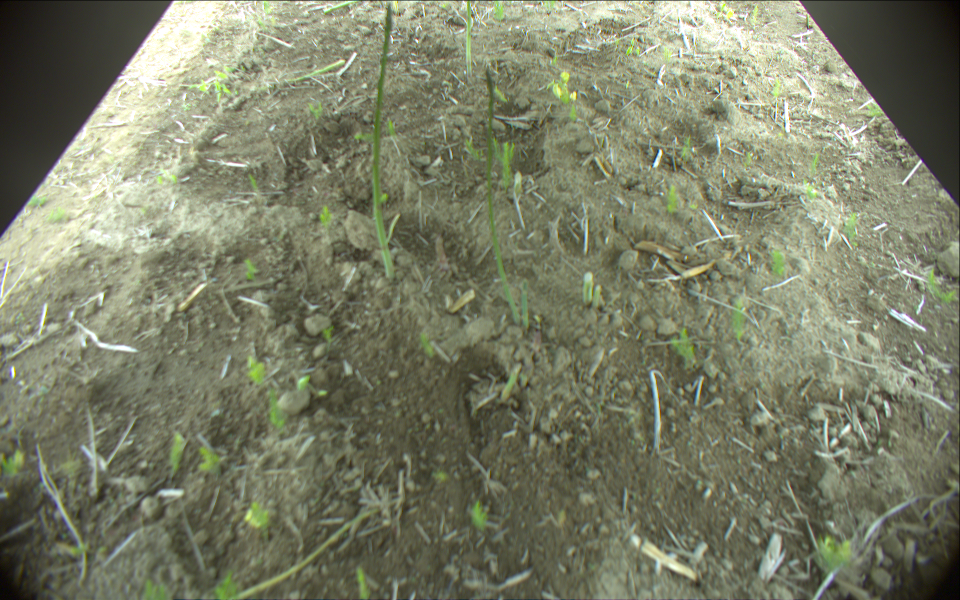aspa: (484, 66, 518, 323), (372, 1, 396, 280), (273, 58, 346, 85), (501, 366, 522, 403), (464, 1, 473, 76), (322, 1, 353, 13), (521, 290, 530, 331), (583, 272, 593, 307), (592, 284, 602, 306)
